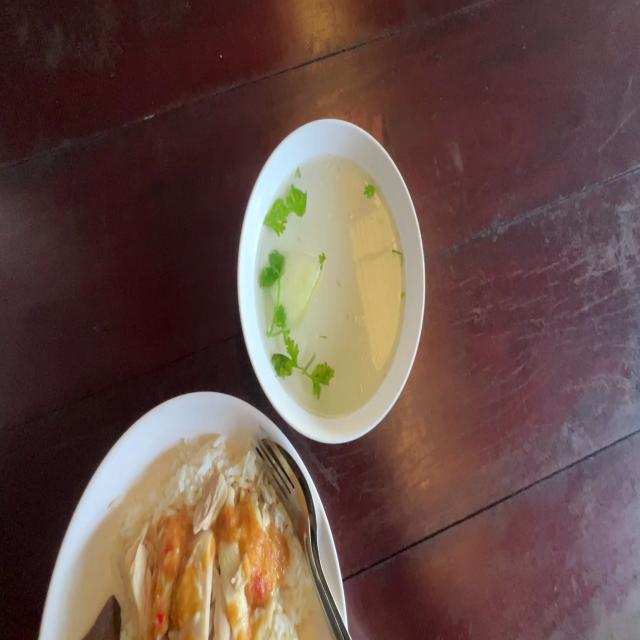boiled_chicken: (134, 481, 276, 640)
boiled_chicken_blood_jelly: (82, 588, 120, 640)
chicken_rice: (81, 439, 304, 640)
